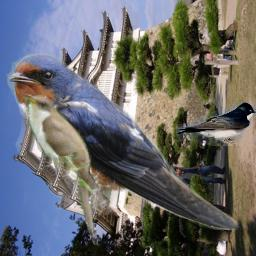Cuckoo: (17, 90, 102, 248)
Swallow: (6, 53, 239, 230), (176, 102, 256, 146)
